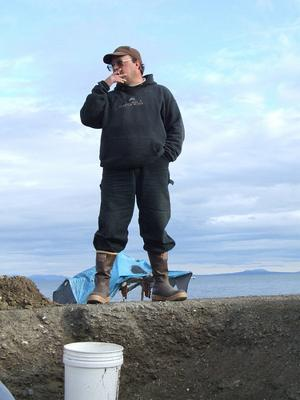person: (79, 46, 188, 304)
